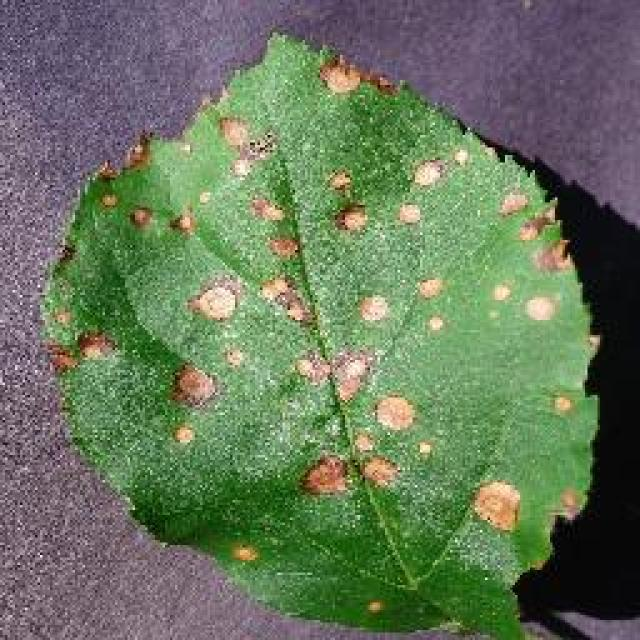apple healthy: (35, 28, 617, 638)
